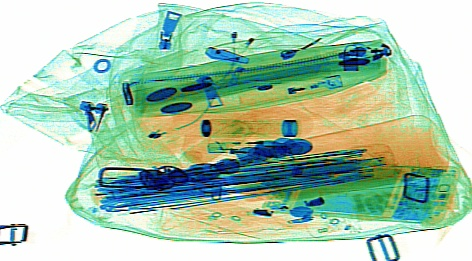lighter: (237, 71, 343, 107), (202, 134, 312, 155)
